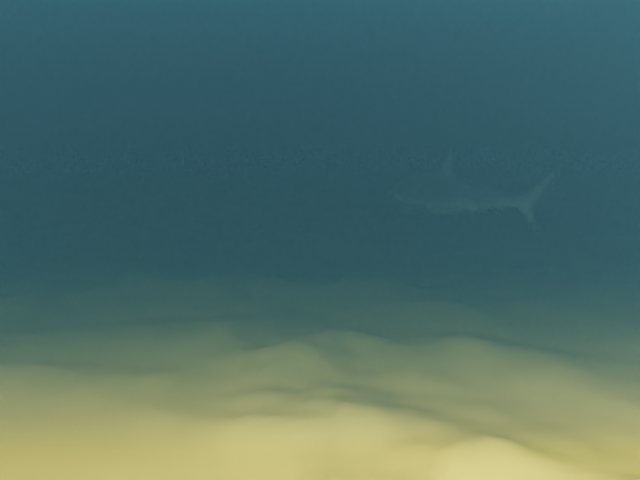Carribean Shark.001: (388, 148, 560, 231)
